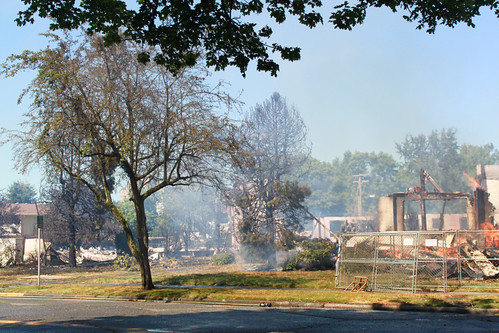sky: (188, 1, 487, 127)
street: (5, 297, 499, 333)
tree: (42, 41, 212, 296), (228, 91, 318, 266), (321, 141, 399, 228), (394, 126, 479, 200)
